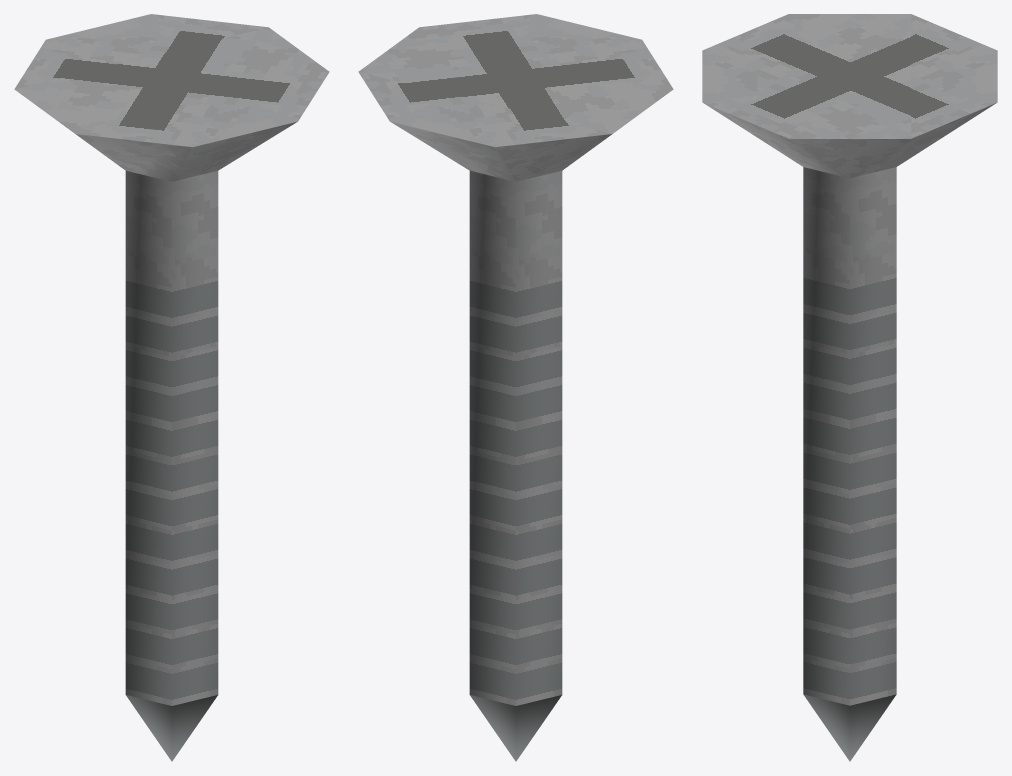
The model's file is 01a4_Long_Screw.glb.
3 views of the same model, side by side, from view 1: azimuth 30°, elevation 25°; view 2: azimuth 150°, elevation 25°; view 3: azimuth 270°, elevation 25° (orthographic).
Parts seen in each view (by area): view 1: part_0; view 2: part_0; view 3: part_0.
Boxes of the visible parts, left/top/right/bottom form: part_0: left=14, top=14, right=329, bottom=761; part_0: left=358, top=14, right=673, bottom=761; part_0: left=702, top=14, right=997, bottom=761.
Size of the model in its own units: 0.0102 by 0.026 by 0.0102.
Materials: 1 (1 with a texture image).
